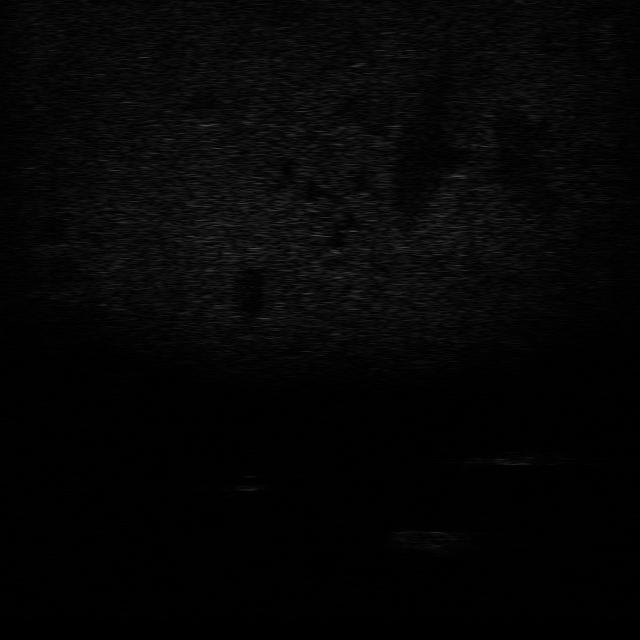ball: (226, 471, 268, 494)
circle cage: (389, 527, 469, 559)
human body: (469, 444, 565, 470)
